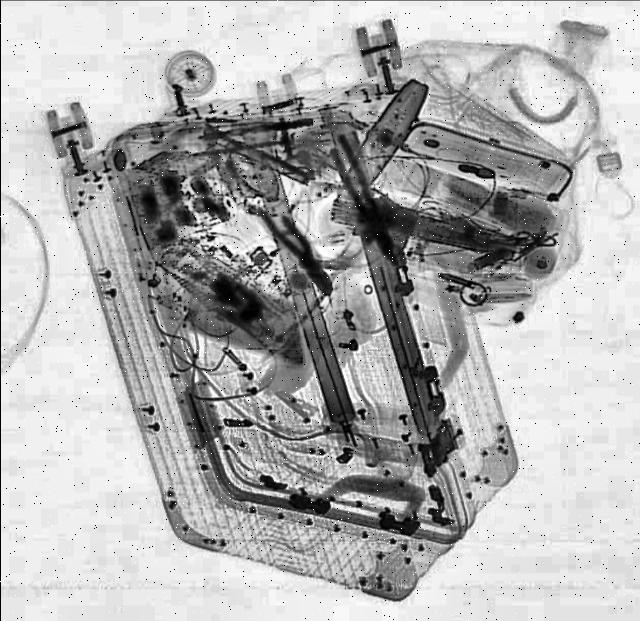Pliers: (326, 132, 406, 270), (258, 201, 344, 303)
